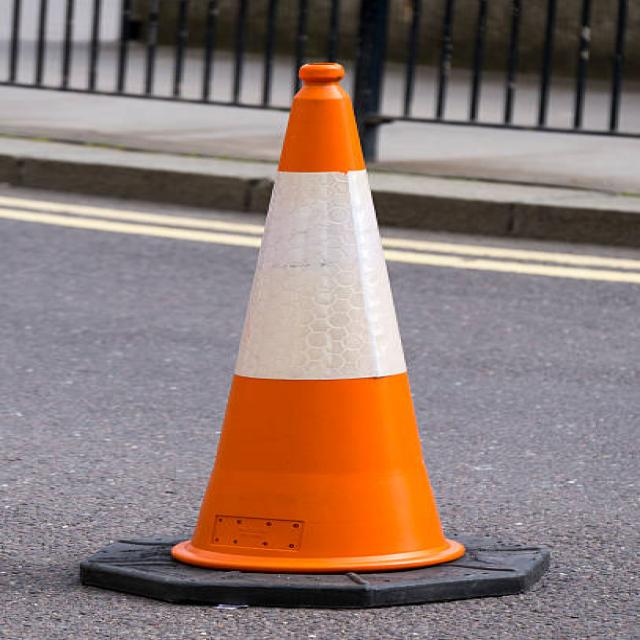Traffic Cone: (34, 23, 603, 624)
